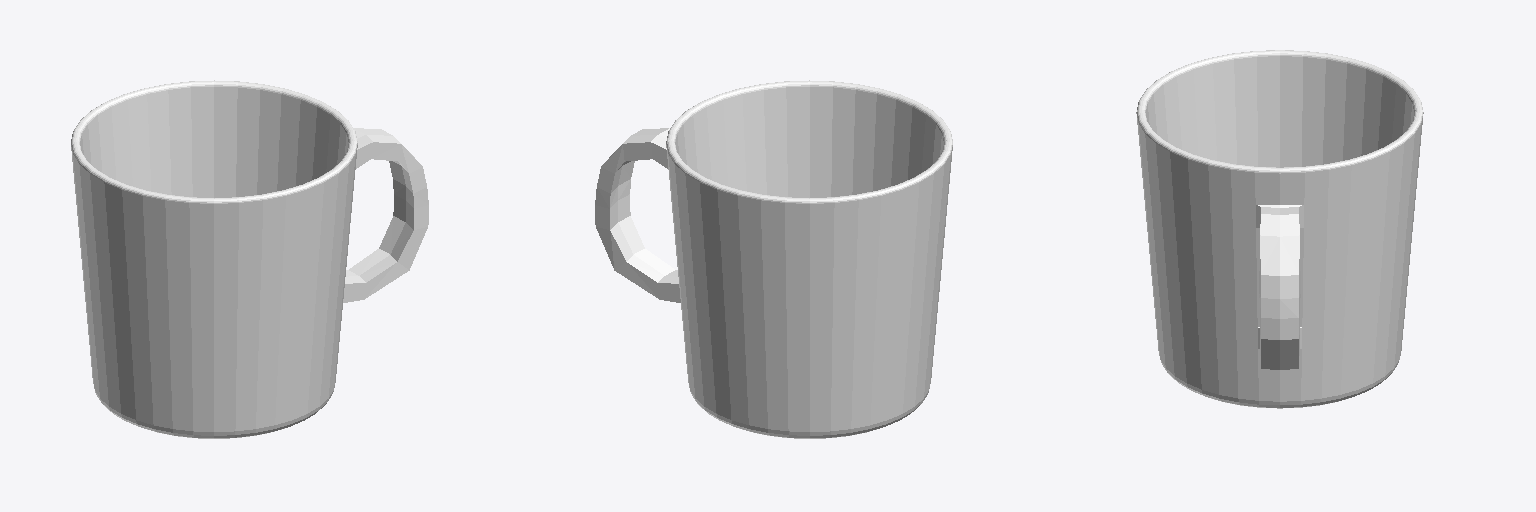
The model's file is cup_green_obj.obj.
3 views of the same model, side by side, from view 1: azimuth 30°, elevation 25°; view 2: azimuth 150°, elevation 25°; view 3: azimuth 270°, elevation 25° (orthographic).
Visible parts, largest first — view 1: Mesh; view 2: Mesh; view 3: Mesh.
Part boxes in pixels (x1,y1,x2,y2): Mesh: (71,80,428,438); Mesh: (595,80,952,438); Mesh: (1136,50,1423,408).
Size of the model in its own units: 12.27 by 8.9 by 9.19.